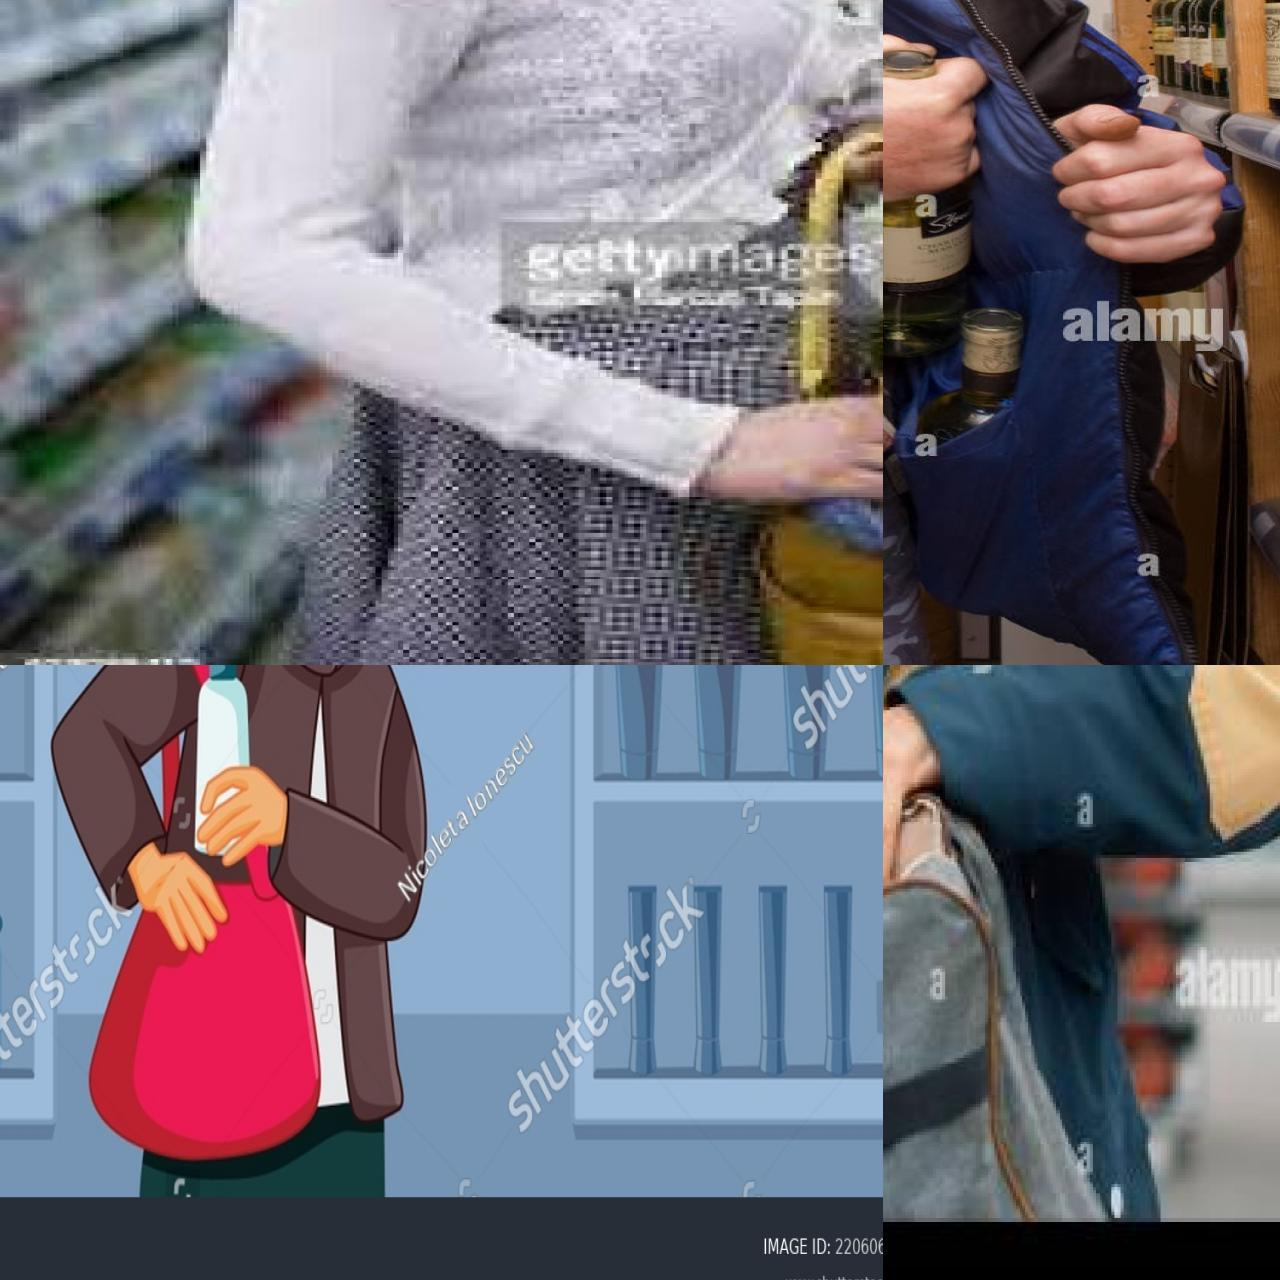Shoplifting: (80, 665, 506, 1203), (464, 48, 883, 588), (883, 0, 1280, 538), (883, 665, 1280, 1197)
